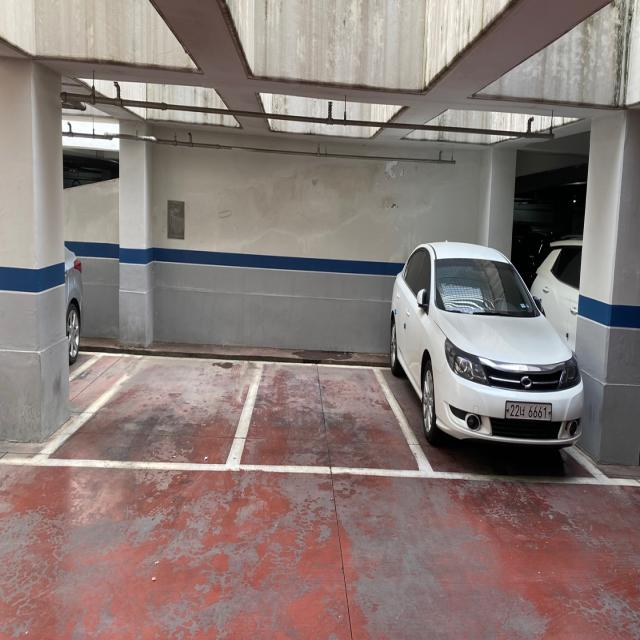empty: (30, 356, 266, 473), (226, 358, 436, 477)
occupied: (402, 241, 588, 464)
